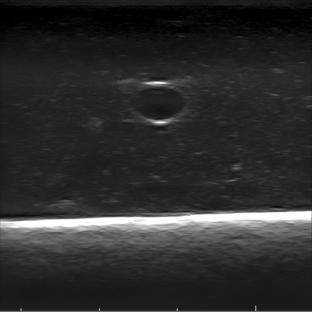vessel: (132, 80, 188, 125)
